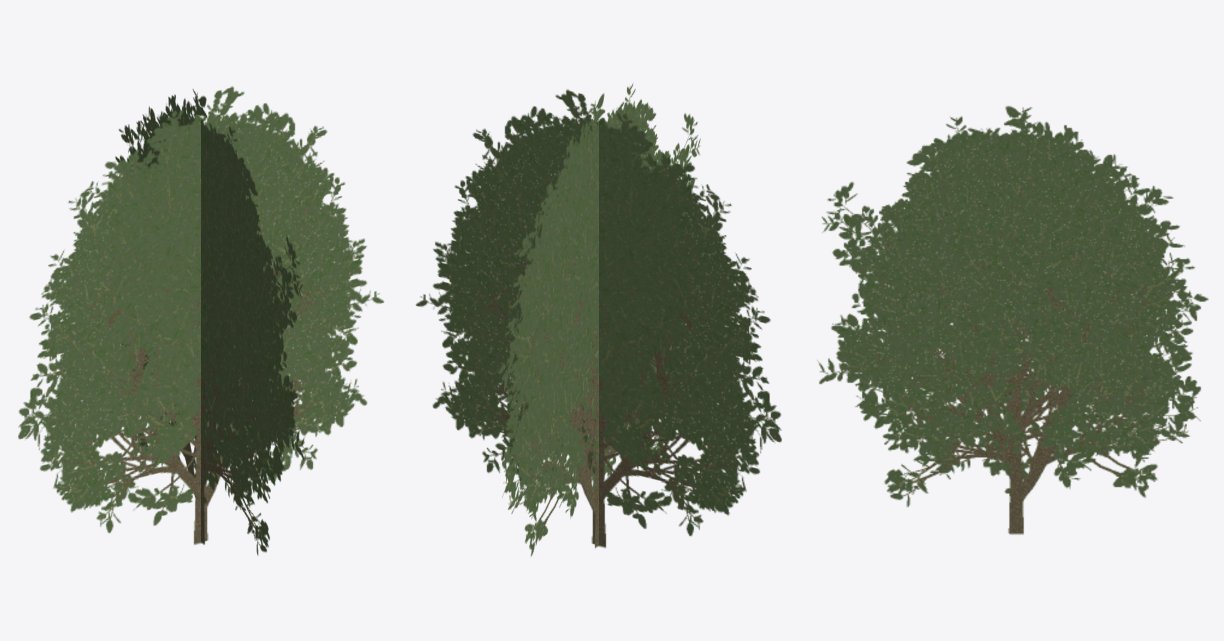
The model's file is BuxusSempervirens.glb.
3 views of the same model, side by side, from view 1: azimuth 30°, elevation 25°; view 2: azimuth 150°, elevation 25°; view 3: azimuth 270°, elevation 25° (orthographic). The views are drawn at different scales.
Parts seen in each view (by area): view 1: mesh__mat_billboard_6; view 2: mesh__mat_billboard_6; view 3: mesh__mat_billboard_6.
Part boxes in pixels (<box>): mesh__mat_billboard_6: <box>18,86,383,555</box>; mesh__mat_billboard_6: <box>416,83,781,556</box>; mesh__mat_billboard_6: <box>817,106,1208,534</box>.
Bounding box in the file's own units: 0.9412 × 1.12 × 0.9097.
1 material, 1 textured.
